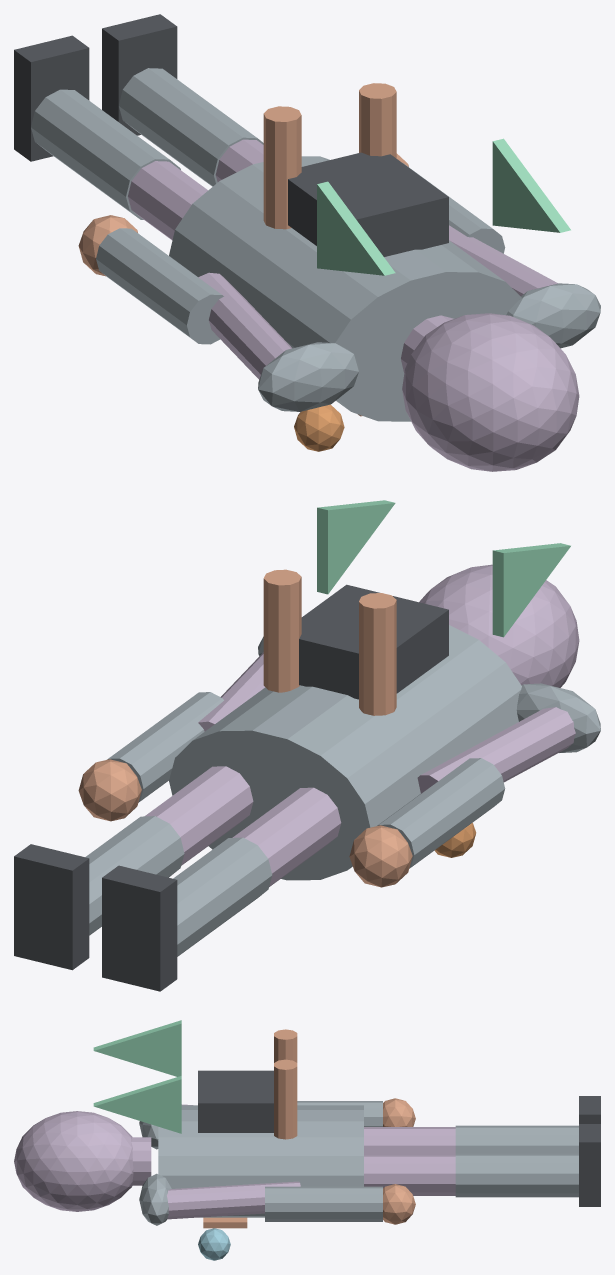
Rendered from SWN-005_saffa_linn.glb.
3 renders of one model, top to bottom at view 1: azimuth 30°, elevation 25°; view 2: azimuth 150°, elevation 25°; view 3: azimuth 270°, elevation 25°, orthographic. The views are drawn at different scales.
Visible parts, largest first — view 1: body_spine, head, back_thruster_pack, greave_-1, greave_1, forearm_gauntlet_-1, boot_-1, shoulder_plate_-1, boot_1, fae_wing_1, upper_arm_-1, fae_wing_-1 (+10 smaller); view 2: body_spine, back_thruster_pack, head, boot_-1, boot_1, greave_-1, forearm_gauntlet_-1, thigh_1, thigh_-1, upper_arm_-1, greave_1, aether_thruster_-1 (+9 smaller); view 3: body_spine, head, greave_1, back_thruster_pack, forearm_gauntlet_1, greave_-1, thigh_1, upper_arm_1, fae_wing_1, fae_wing_-1, thigh_-1, aether_thruster_1 (+11 smaller).
Boxes of the visible parts, x1,y1,x2,y2 form: body_spine: (169, 156, 521, 421); head: (402, 313, 579, 471); back_thruster_pack: (288, 152, 448, 256); greave_-1: (31, 89, 180, 219); greave_1: (119, 68, 263, 186); forearm_gauntlet_-1: (96, 228, 223, 344); boot_-1: (14, 35, 89, 161); shoulder_plate_-1: (258, 342, 359, 411); boot_1: (102, 14, 177, 135); fae_wing_1: (492, 138, 570, 232); upper_arm_-1: (198, 272, 291, 379); fae_wing_-1: (317, 181, 395, 275); body_spine: (169, 625, 521, 880); back_thruster_pack: (299, 584, 448, 699); head: (419, 564, 579, 687); boot_-1: (102, 865, 177, 991); boot_1: (14, 844, 89, 970); greave_-1: (173, 837, 272, 956); forearm_gauntlet_-1: (378, 758, 505, 868); thigh_1: (145, 766, 253, 865); thigh_-1: (232, 787, 341, 886); upper_arm_-1: (417, 707, 575, 793); greave_1: (85, 816, 184, 935); aether_thruster_-1: (359, 593, 396, 715); body_spine: (158, 1105, 363, 1217); head: (14, 1111, 133, 1211); greave_1: (455, 1153, 578, 1197); back_thruster_pack: (198, 1070, 273, 1132); forearm_gauntlet_1: (265, 1186, 382, 1221); greave_-1: (455, 1125, 578, 1153); thigh_1: (364, 1155, 455, 1195); upper_arm_1: (167, 1181, 300, 1219); fae_wing_1: (93, 1076, 181, 1133); fae_wing_-1: (93, 1020, 181, 1076); thigh_-1: (364, 1127, 455, 1154); aether_thruster_1: (274, 1059, 297, 1139).
Bounding box in the file's own units: 0.9372 × 0.76 × 2.14.
